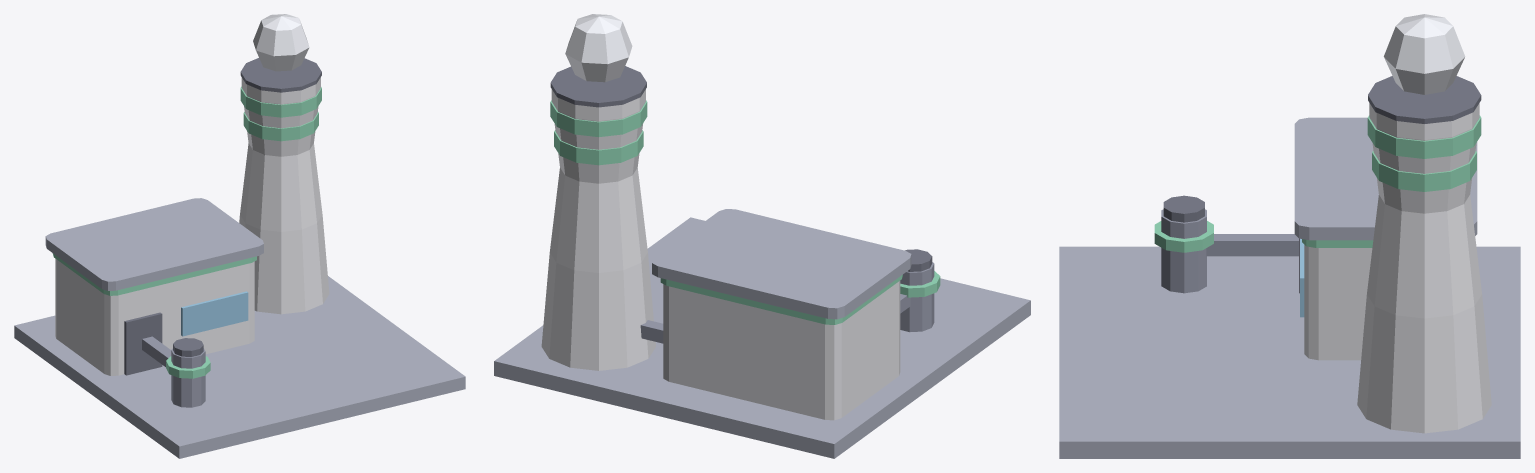
The model's file is geothermal-1x1-t2-tone-a.glb.
The picture shows the model from 3 angles, left to right: view 1: azimuth 30°, elevation 25°; view 2: azimuth 150°, elevation 25°; view 3: azimuth 270°, elevation 25°; orthographic projection. The views are drawn at different scales.
Parts seen in each view (by area): view 1: geothermal-1x1-t2-tone-a; view 2: geothermal-1x1-t2-tone-a; view 3: geothermal-1x1-t2-tone-a.
Part boxes in pixels (<box>): geothermal-1x1-t2-tone-a: <box>14,14,465,458</box>; geothermal-1x1-t2-tone-a: <box>494,14,1030,458</box>; geothermal-1x1-t2-tone-a: <box>1059,14,1520,458</box>.
Size of the model in its own units: 0.96 by 0.93 by 0.96.
1 material, 1 textured.
